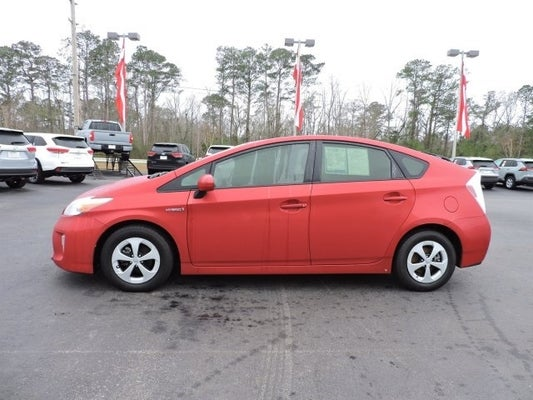Toyota Prius: (48, 133, 492, 295)
